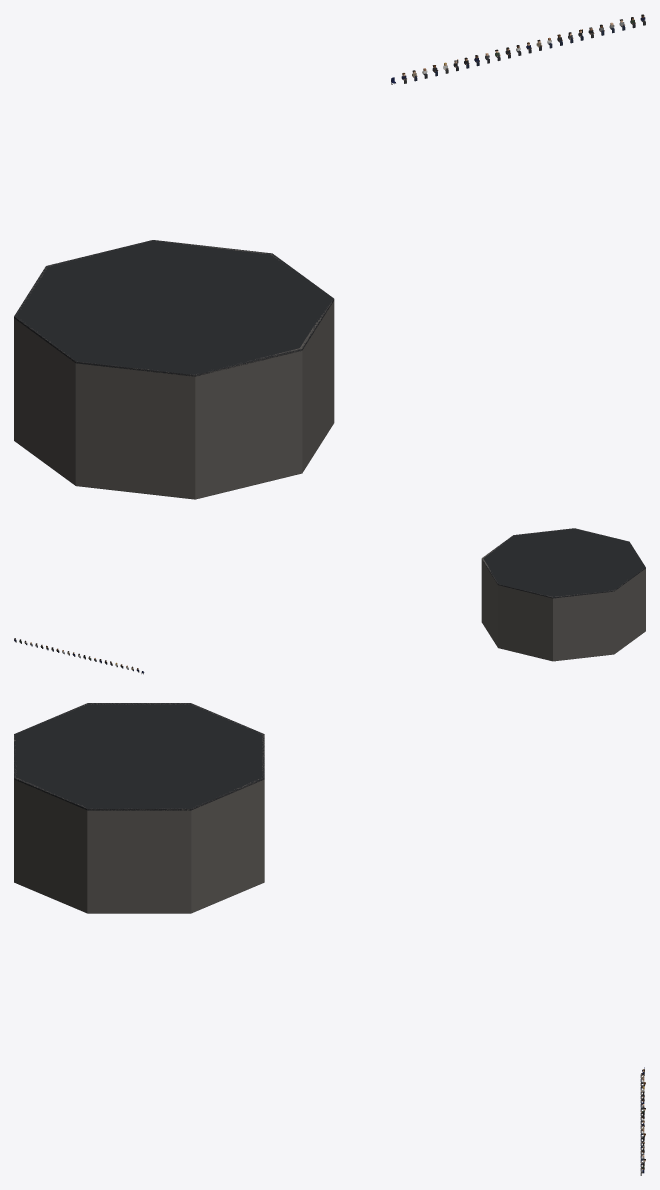
The model's file is Arena_Hall_v05_Roblox.fbx.
3 views of the same model, one above another, from view 1: azimuth 30°, elevation 25°; view 2: azimuth 150°, elevation 25°; view 3: azimuth 270°, elevation 25° (orthographic). The views are drawn at different scales.
Parts seen in each view (by area): view 1: Shell__HL_Wall_WarmGrey, Roof__HL_Roof_Dark; view 2: Shell__HL_Wall_WarmGrey, Roof__HL_Roof_Dark; view 3: Shell__HL_Wall_WarmGrey, Roof__HL_Roof_Dark.
Part boxes in pixels (x1,y1,x2,y2): Shell__HL_Wall_WarmGrey: (14,240,334,499); Roof__HL_Roof_Dark: (14,240,334,376); Shell__HL_Wall_WarmGrey: (481,528,645,661); Roof__HL_Roof_Dark: (483,528,645,598); Shell__HL_Wall_WarmGrey: (14,703,264,913); Roof__HL_Roof_Dark: (14,703,264,810).
Bounding box in the file's own units: 13862 × 1830 × 10033.
44 materials, 4 textured.
